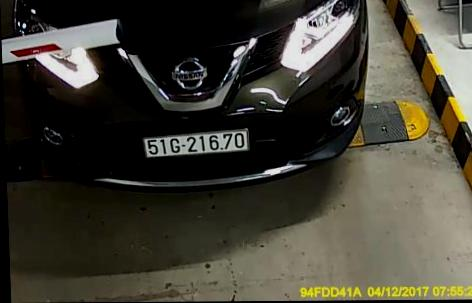License_Plate: (143, 131, 252, 158)
